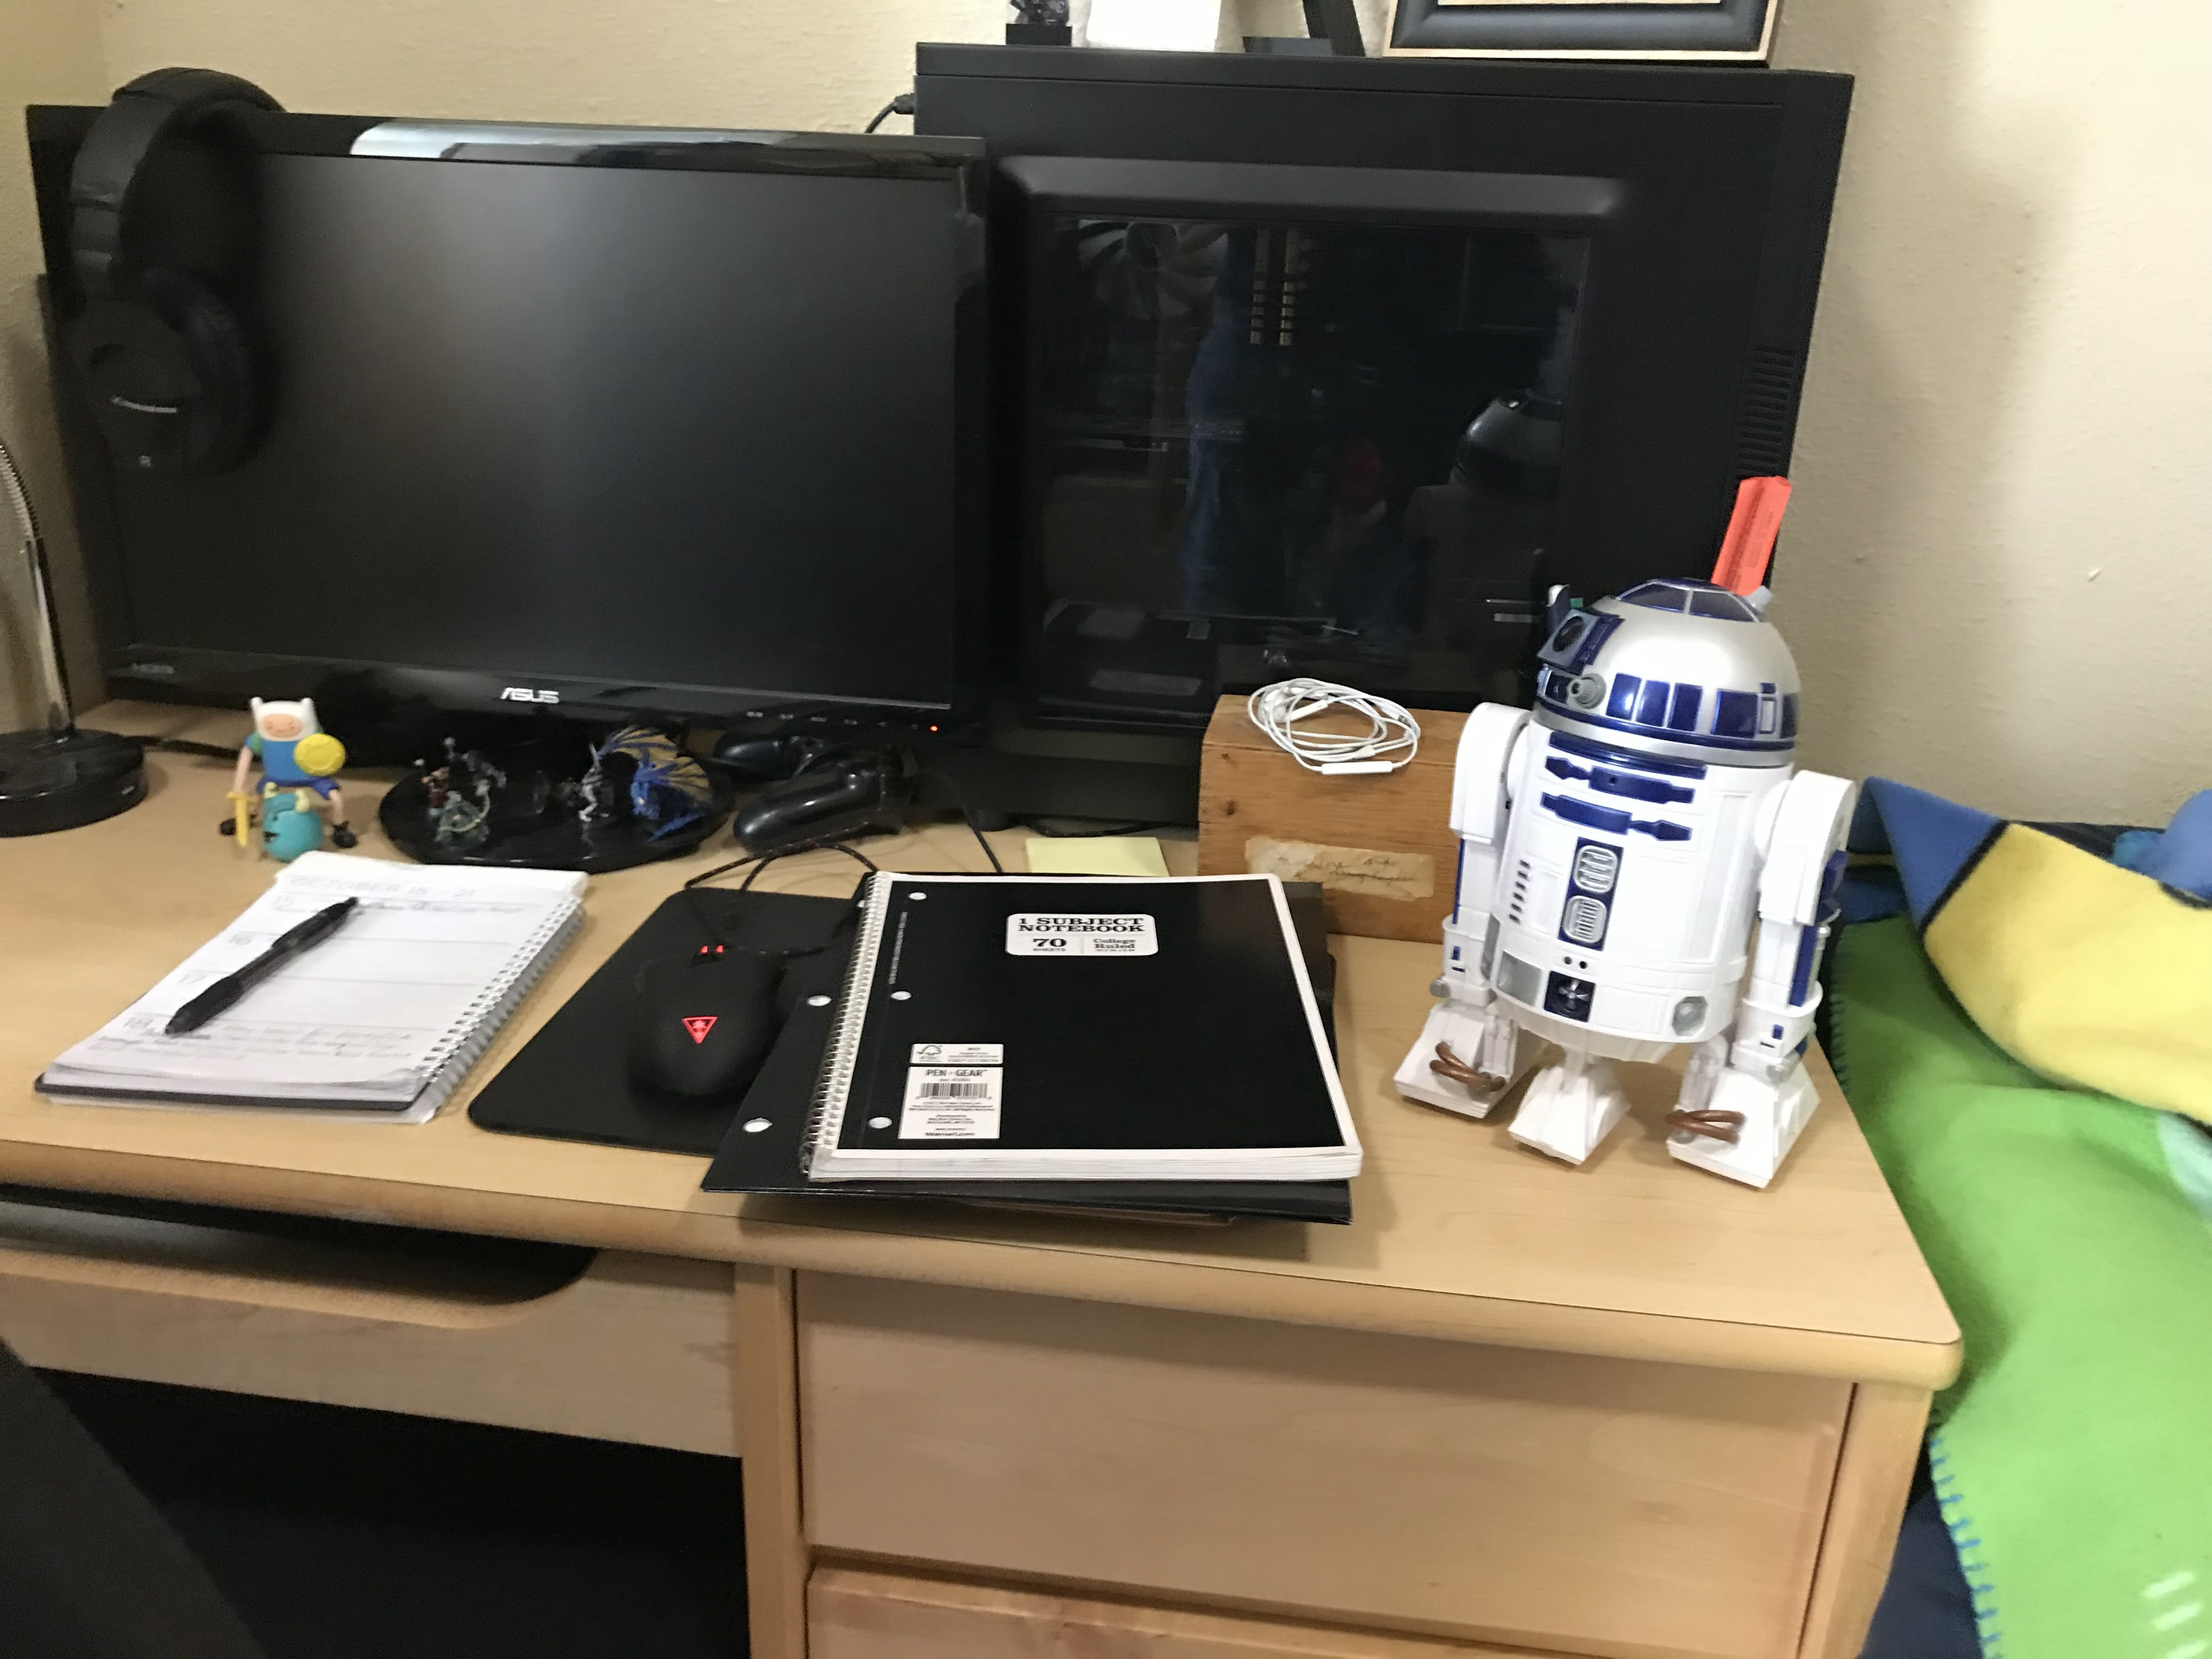r2d2: (1393, 575, 1855, 1192)
